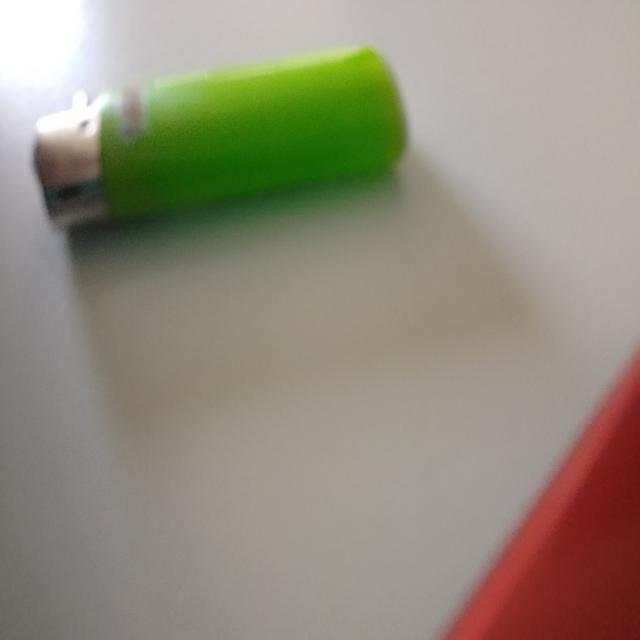lighter: (30, 44, 402, 231)
